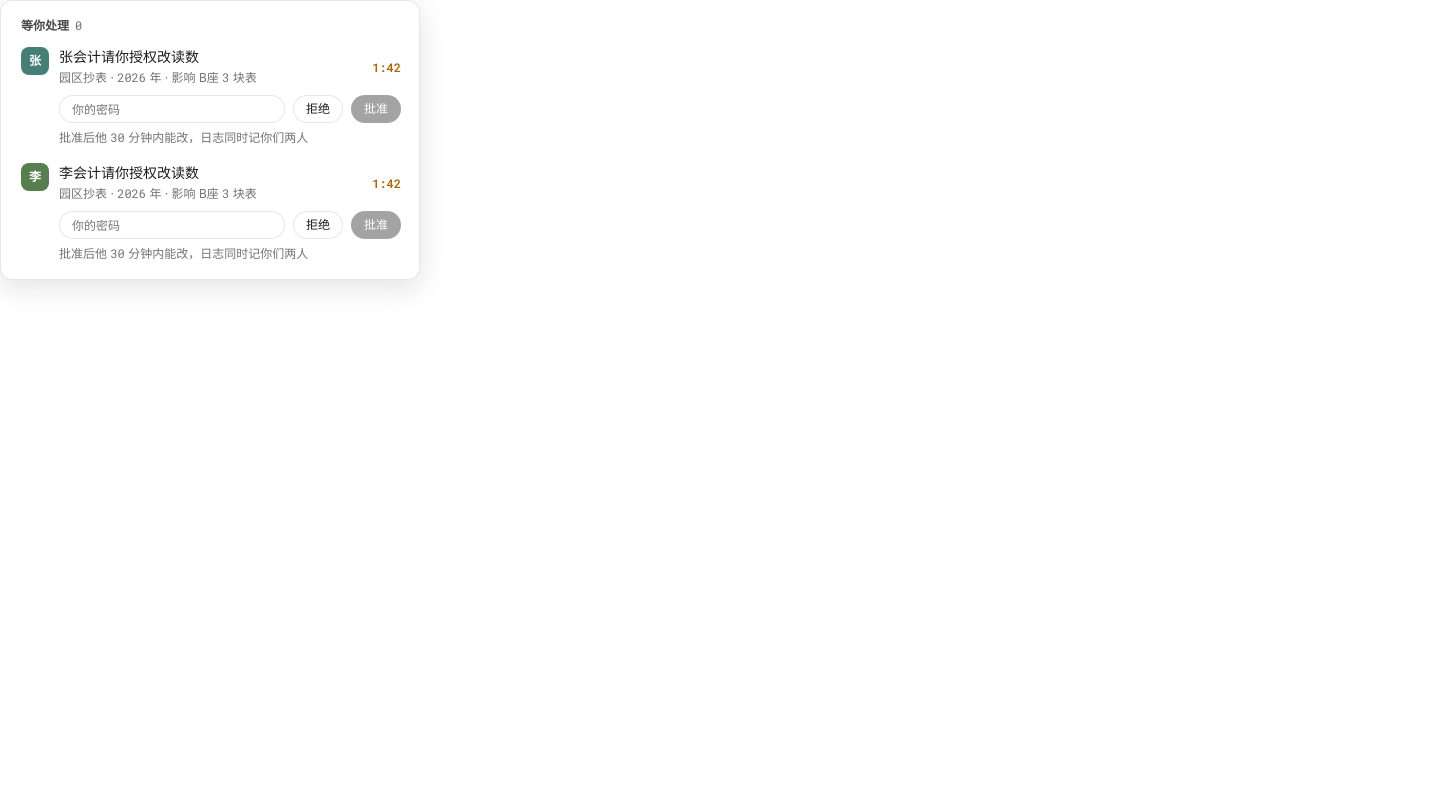
Test: 铃铛面板 · 授权请求当场处理(原 FPApprovalDrawer) › ❗密码框反自动填充:挂上时只读、autocomplete=off、每条一个 name;聚焦哪条才解哪条,各输各的
Focus the field with placeholder "你的密码" below "张会计请你授权改读数": (172, 109) [72,102,272,116]
In the field with placeholder "你的密码" below "张会计请你授权改读数": (172, 109) [72,102,272,116], type "pw1"
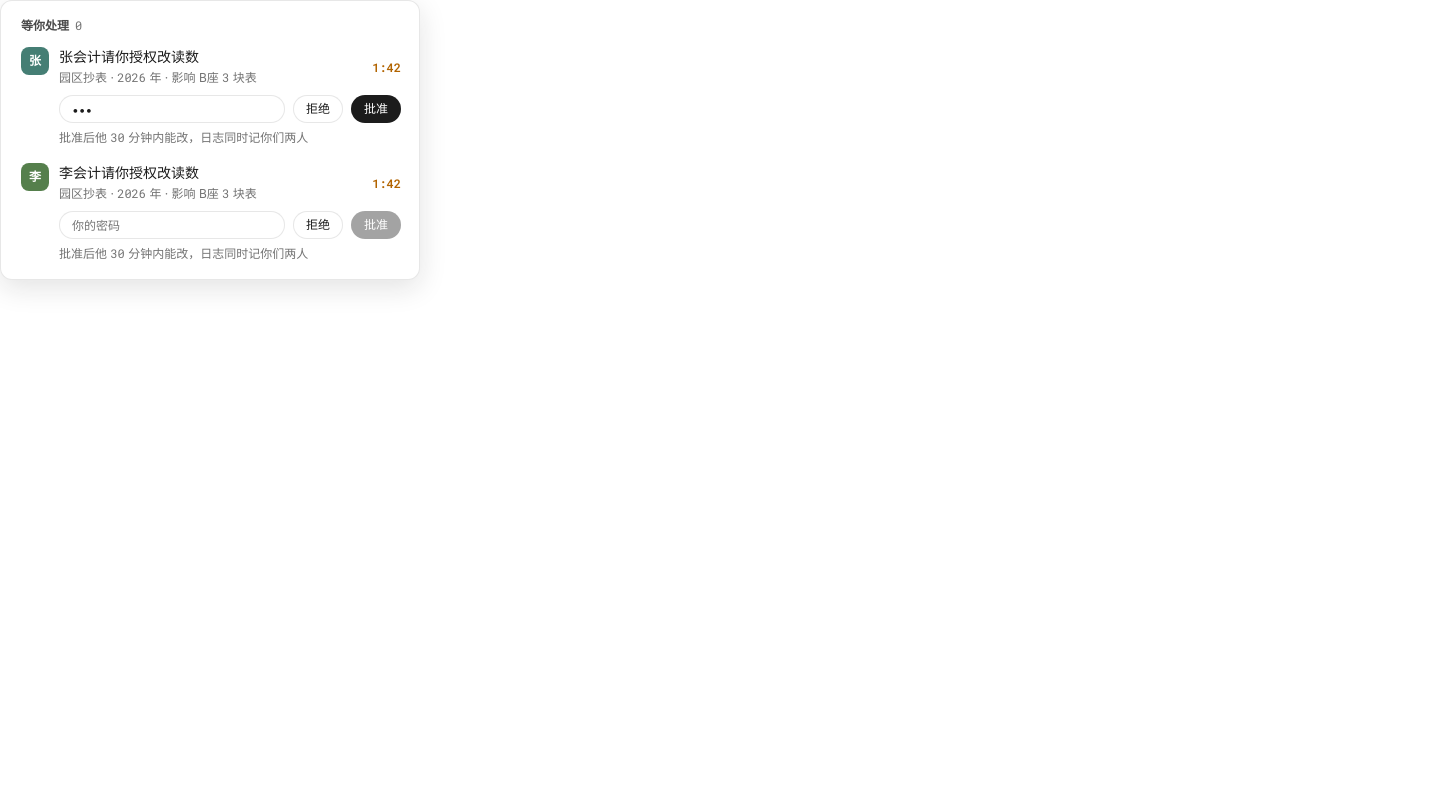
Expected: the 2nd button "批准" is disabled, [351,211,401,239]
Expected: the button "批准" below "张会计请你授权改读数" is enabled, [351,95,401,123]
